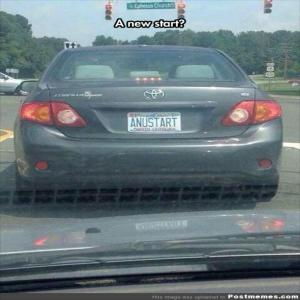Vehicle-registration-plate: (126, 112, 184, 134)
